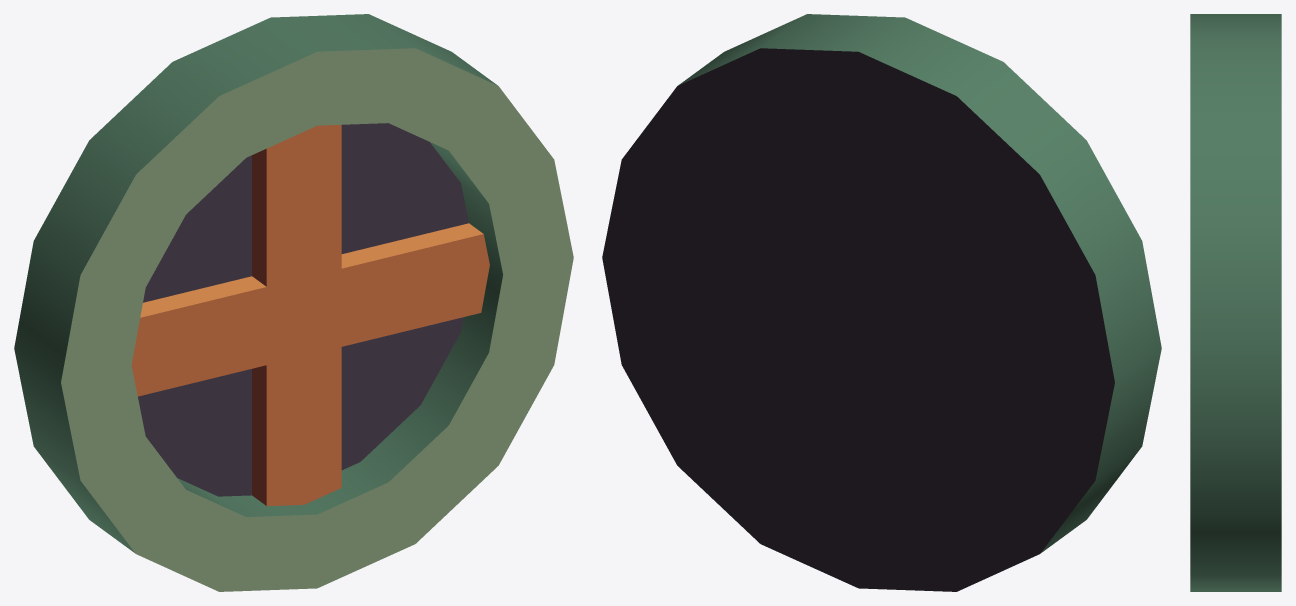
The model's file is SmallWindow02_Green_Wood.glb.
3 renders of one model, left to right at view 1: azimuth 30°, elevation 25°; view 2: azimuth 150°, elevation 25°; view 3: azimuth 270°, elevation 25°, orthographic. The views are drawn at different scales.
Parts seen in each view (by area): view 1: SmallWindow02_Green_Wood; view 2: SmallWindow02_Green_Wood; view 3: SmallWindow02_Green_Wood.
Boxes of the visible parts, x1,y1,x2,y2 form: SmallWindow02_Green_Wood: (14, 14, 573, 591); SmallWindow02_Green_Wood: (602, 14, 1161, 591); SmallWindow02_Green_Wood: (1190, 14, 1281, 591).
Size of the model in its own units: 0.5633 by 0.5633 by 0.089.
1 material, 1 textured.
